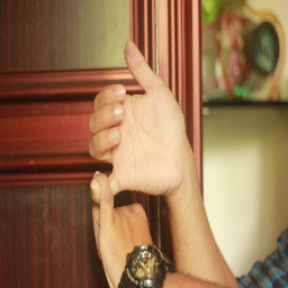S: (78, 35, 185, 283)
